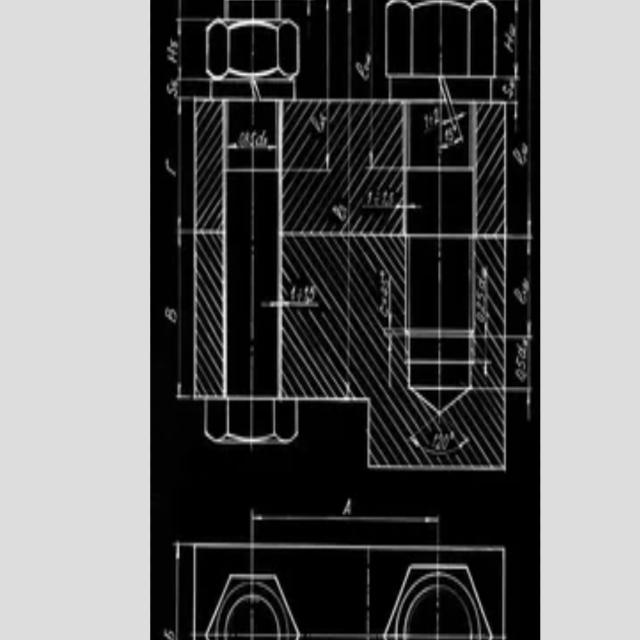marking_line: (251, 509, 443, 543), (176, 229, 193, 401), (406, 414, 472, 457), (174, 98, 193, 238), (508, 332, 535, 421), (510, 235, 533, 339), (173, 15, 206, 87), (382, 280, 404, 387), (497, 0, 522, 82)
